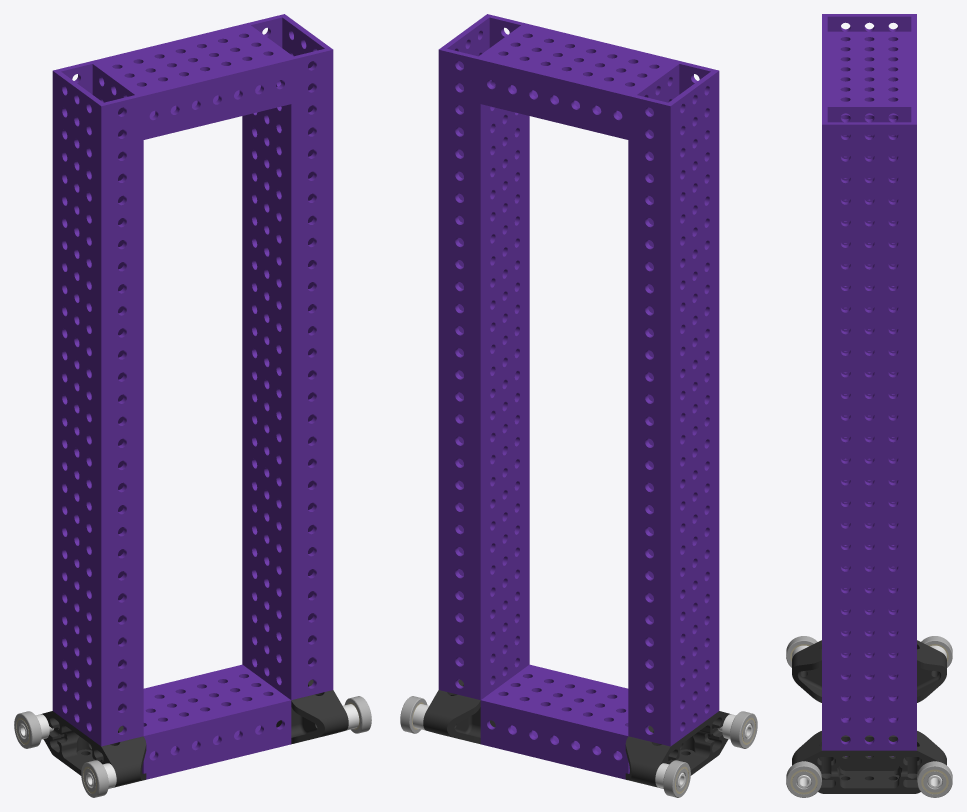
3 views of the same model, side by side, from view 1: azimuth 30°, elevation 25°; view 2: azimuth 150°, elevation 25°; view 3: azimuth 270°, elevation 25° (orthographic). The views are drawn at different scales.
Parts seen in each view (by area): view 1: Part 1 (×4), REV-21-2618-P01-revB (×2), 8mm ID Bearing (19mm OD, 6mm WD, Shielded) (×2); view 2: Part 1 (×4), REV-21-2618-P01-revB (×2), 8mm ID Bearing (19mm OD, 6mm WD, Shielded) (×2); view 3: Part 1 (×3), REV-21-2618-P01-revB (×2), 8mm ID Bearing (19mm OD, 6mm WD, Shielded) (×4).
Part boxes in pixels (x1=…): Part 1 (×4): x1=52, y1=14, x2=333, y2=779; REV-21-2618-P01-revB (×2): x1=41, y1=679, x2=348, y2=788; 8mm ID Bearing (19mm OD, 6mm WD, Shielded) (×2): x1=14, y1=711, x2=108, y2=797; Part 1 (×4): x1=438, y1=14, x2=719, y2=779; REV-21-2618-P01-revB (×2): x1=423, y1=679, x2=730, y2=788; 8mm ID Bearing (19mm OD, 6mm WD, Shielded) (×2): x1=663, y1=711, x2=757, y2=797; Part 1 (×3): x1=822, y1=14, x2=916, y2=750; REV-21-2618-P01-revB (×2): x1=792, y1=640, x2=946, y2=793; 8mm ID Bearing (19mm OD, 6mm WD, Shielded) (×4): x1=786, y1=636, x2=952, y2=797.
Size of the model in its own units: 0.1644 by 0.3937 by 0.0888.
